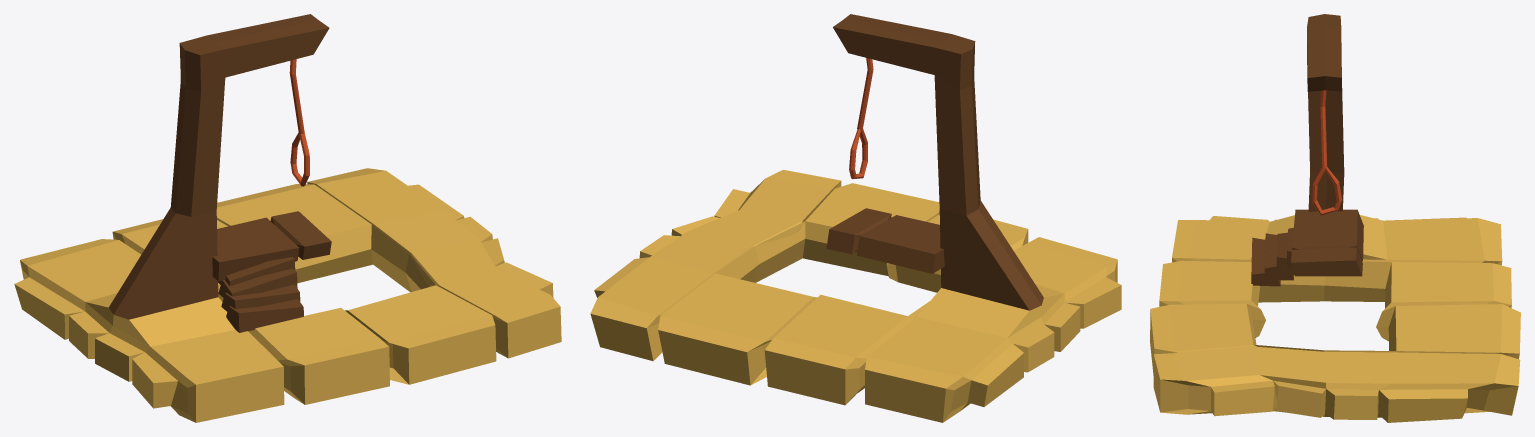
Rendered from Lynch.fbx.
The picture shows the model from 3 angles, left to right: view 1: azimuth 30°, elevation 25°; view 2: azimuth 150°, elevation 25°; view 3: azimuth 270°, elevation 25°; orthographic projection. The views are drawn at different scales.
Visible parts, largest first — view 1: Cube; view 2: Cube; view 3: Cube.
Boxes of the visible parts, bbox=[...] form: Cube: bbox=[14, 14, 561, 422]; Cube: bbox=[590, 14, 1121, 422]; Cube: bbox=[1150, 14, 1520, 422].
Size of the model in its own units: 2066 by 1466 by 1776.
